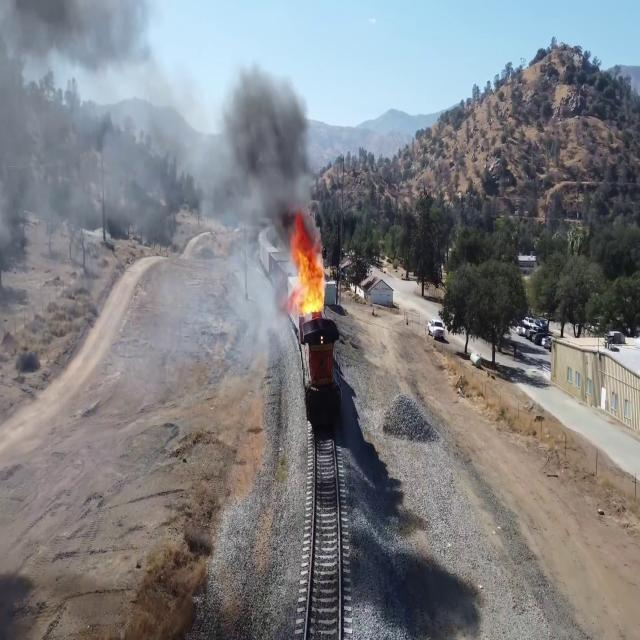Fire: (292, 220, 329, 322)
Smoke: (0, 0, 138, 82), (223, 66, 313, 185)
